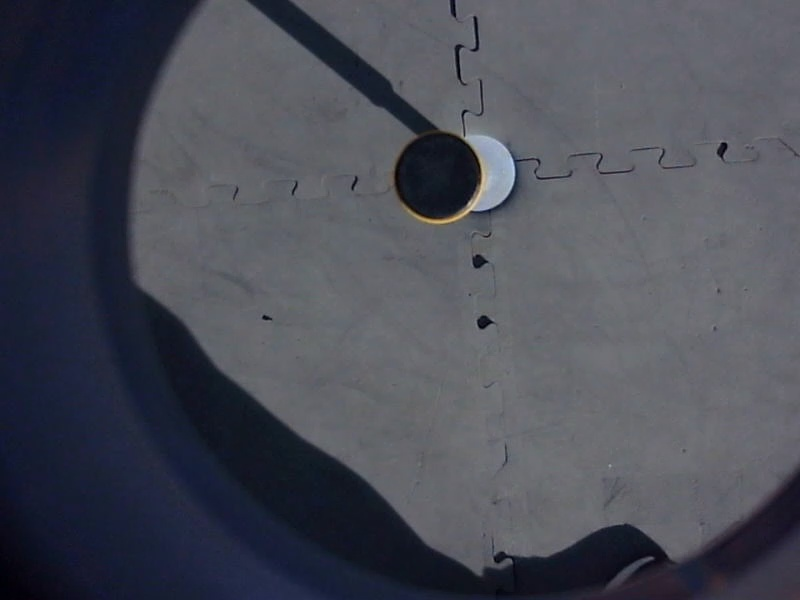tip: (384, 126, 490, 230)
